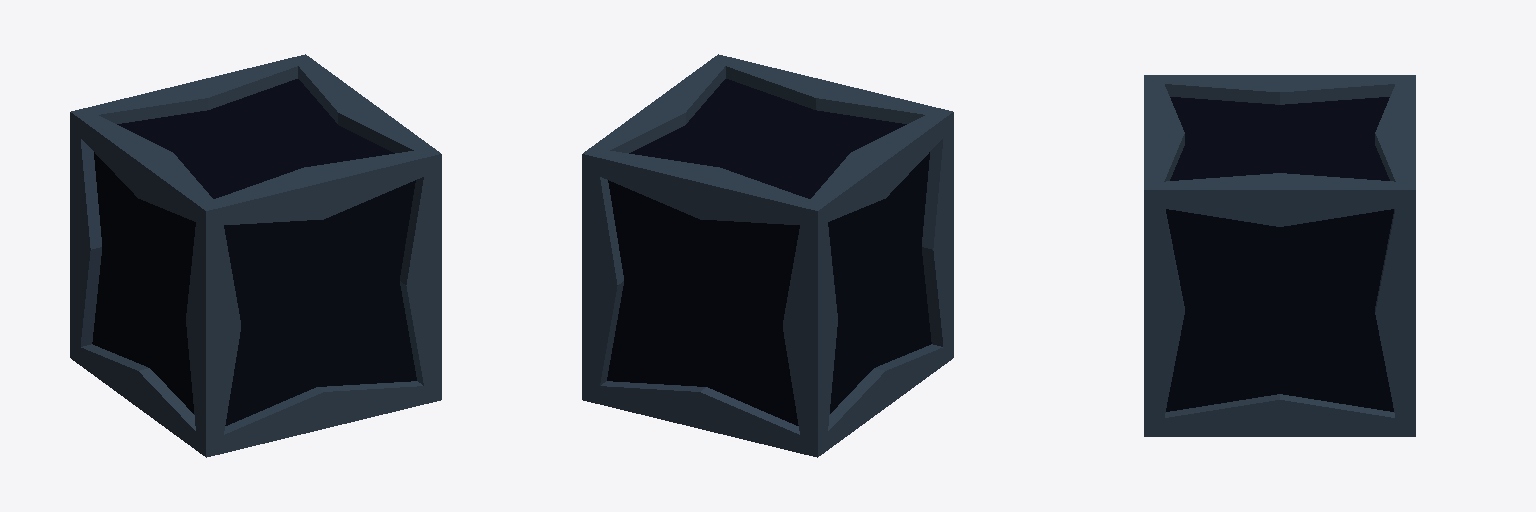
Rendered from Cubdroid.obj.
The picture shows the model from 3 angles: view 1: azimuth 30°, elevation 25°; view 2: azimuth 150°, elevation 25°; view 3: azimuth 270°, elevation 25°; orthographic projection.
Visible parts, largest first — view 1: Cube; view 2: Cube; view 3: Cube.
Boxes of the visible parts, <box> form: Cube: <box>70,54,441,457</box>; Cube: <box>582,54,953,457</box>; Cube: <box>1144,75,1415,436</box>.
Size of the model in its own units: 1 by 1 by 1.